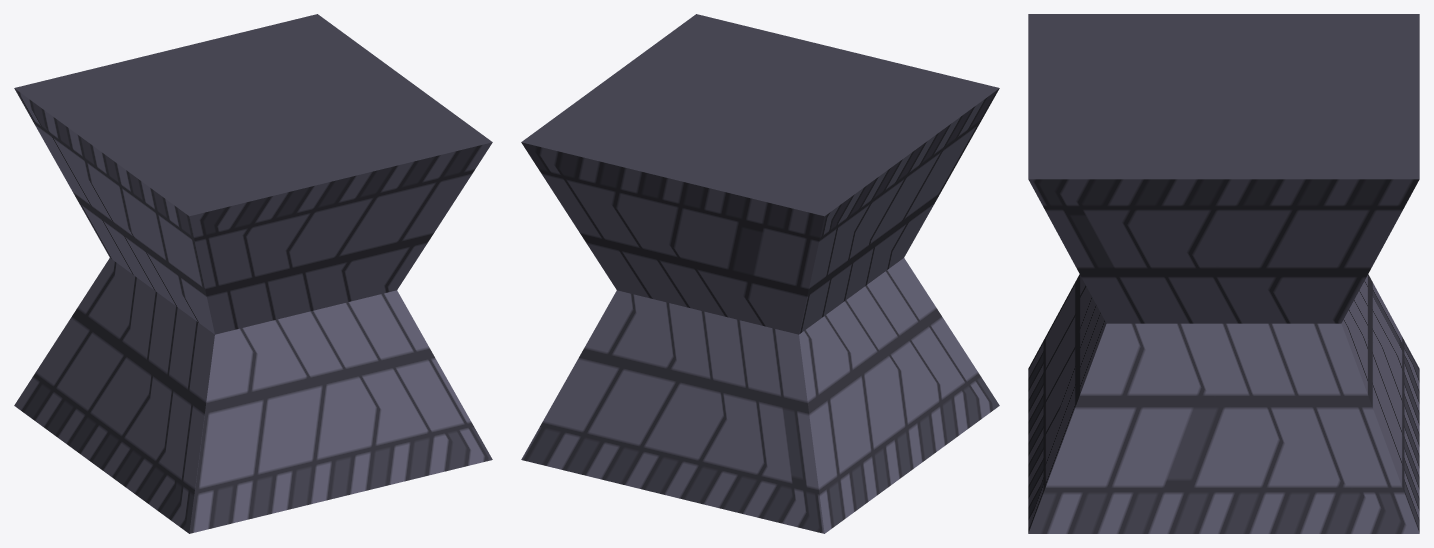
File: obstacle1_2.glb
The picture shows the model from 3 angles, left to right: view 1: azimuth 30°, elevation 25°; view 2: azimuth 150°, elevation 25°; view 3: azimuth 270°, elevation 25°; orthographic projection. The views are drawn at different scales.
Visible parts, largest first — view 1: Cube; view 2: Cube; view 3: Cube.
Boxes of the visible parts, x1,y1,x2,y2 form: Cube: [14, 14, 492, 533]; Cube: [521, 14, 999, 533]; Cube: [1028, 14, 1419, 533].
Bounding box in the file's own units: 2 × 2 × 2.
Materials: 1 (1 with a texture image).
